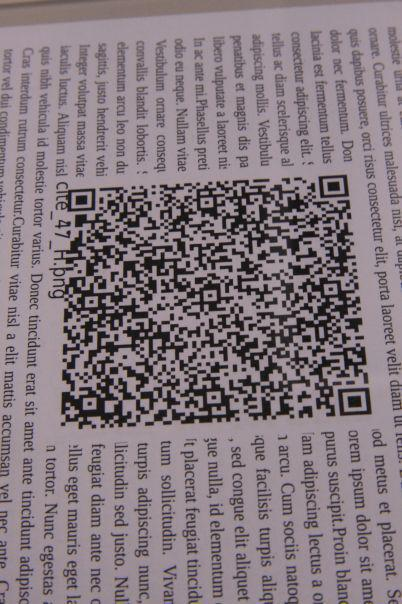Finder pattern: (334, 381, 377, 421), (315, 169, 356, 202), (65, 184, 100, 213)
